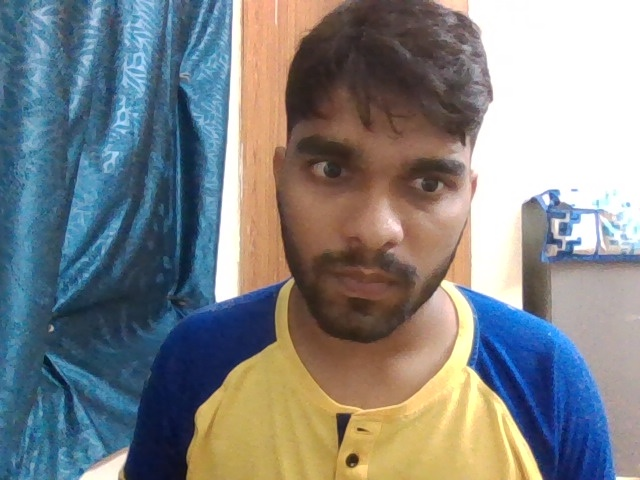Yes: (378, 347, 384, 360)
